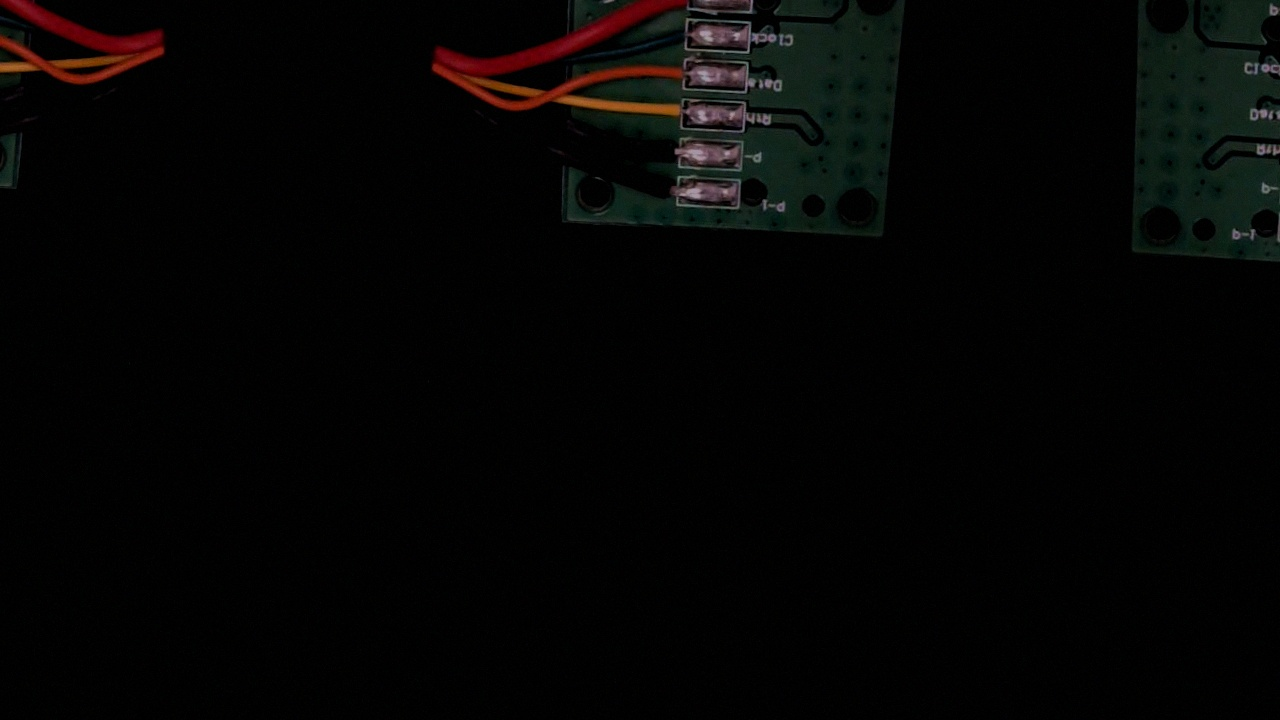Black: (625, 131, 700, 169)
Black1: (626, 173, 695, 210)
Green: (636, 12, 708, 50)
Orange: (631, 56, 705, 92)
Red: (640, 0, 712, 12)
Yellow: (627, 92, 703, 130)
